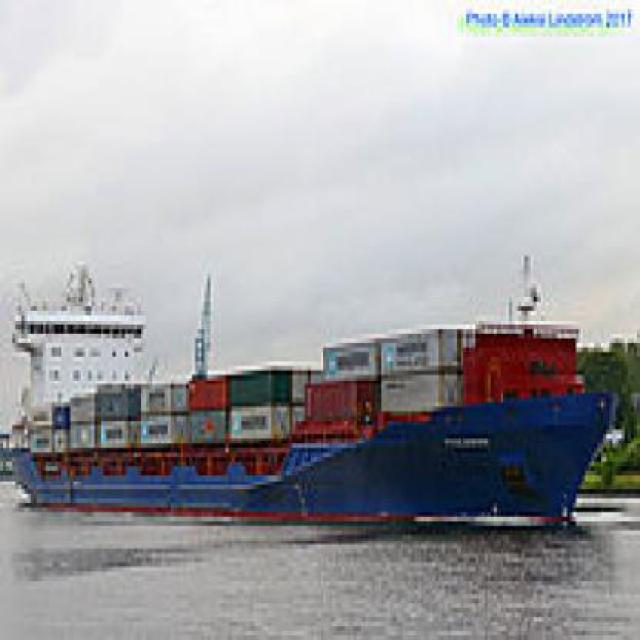container: (7, 234, 620, 545)
